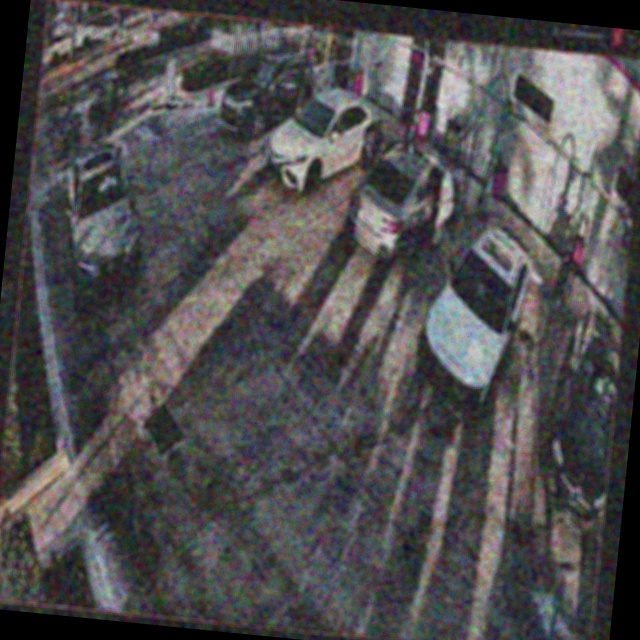Car: (411, 219, 535, 423), (59, 141, 152, 312), (345, 138, 464, 268), (265, 85, 383, 193)
